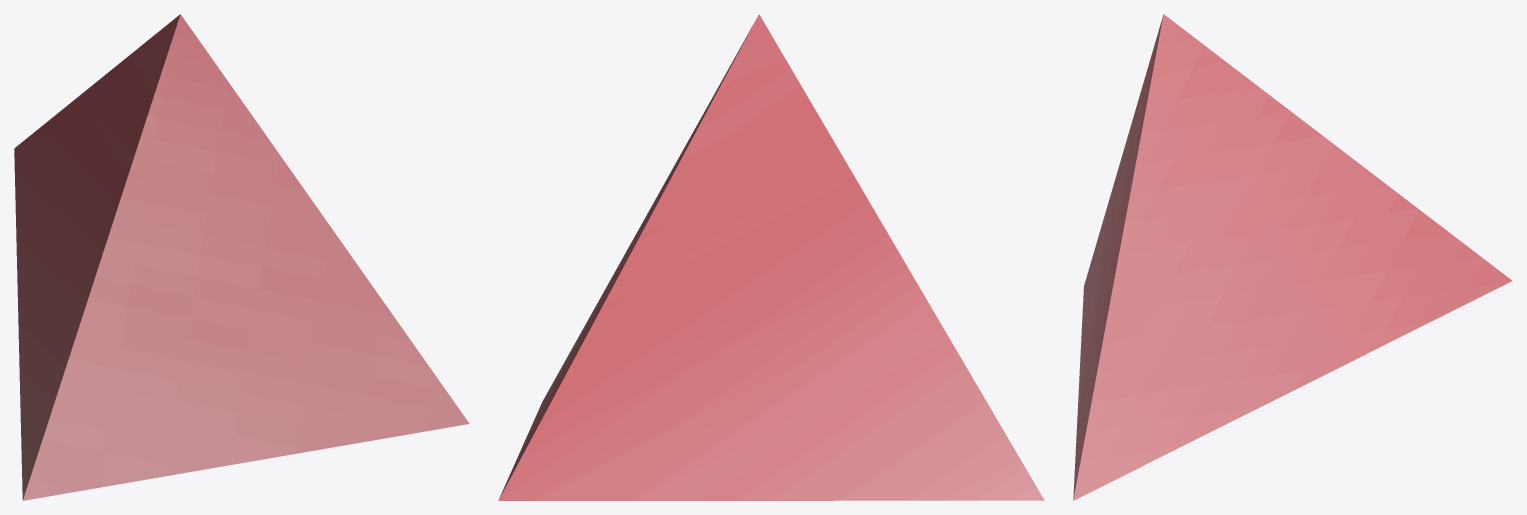
Rendered from Bullet_Cuball.glb.
3 renders of one model, left to right at view 1: azimuth 30°, elevation 25°; view 2: azimuth 150°, elevation 25°; view 3: azimuth 270°, elevation 25°, orthographic. The views are drawn at different scales.
Parts seen in each view (by area): view 1: Sphere; view 2: Sphere; view 3: Sphere.
Part boxes in pixels (x1,y1,x2,y2): Sphere: (14, 14, 469, 500); Sphere: (498, 14, 1044, 500); Sphere: (1073, 14, 1512, 500).
Size of the model in its own units: 1.59 by 1.48 by 1.54.
Materials: 2 (2 with a texture image).
